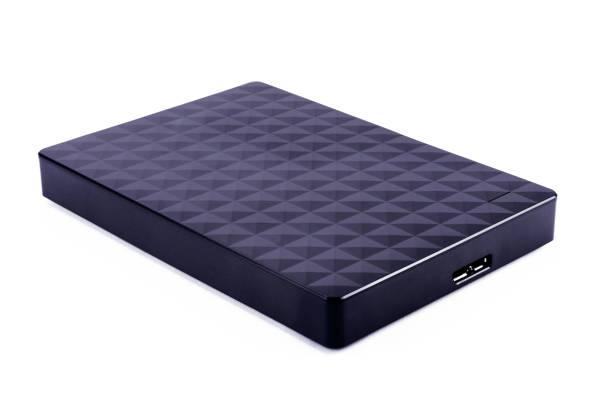HDD: (36, 81, 559, 352)
